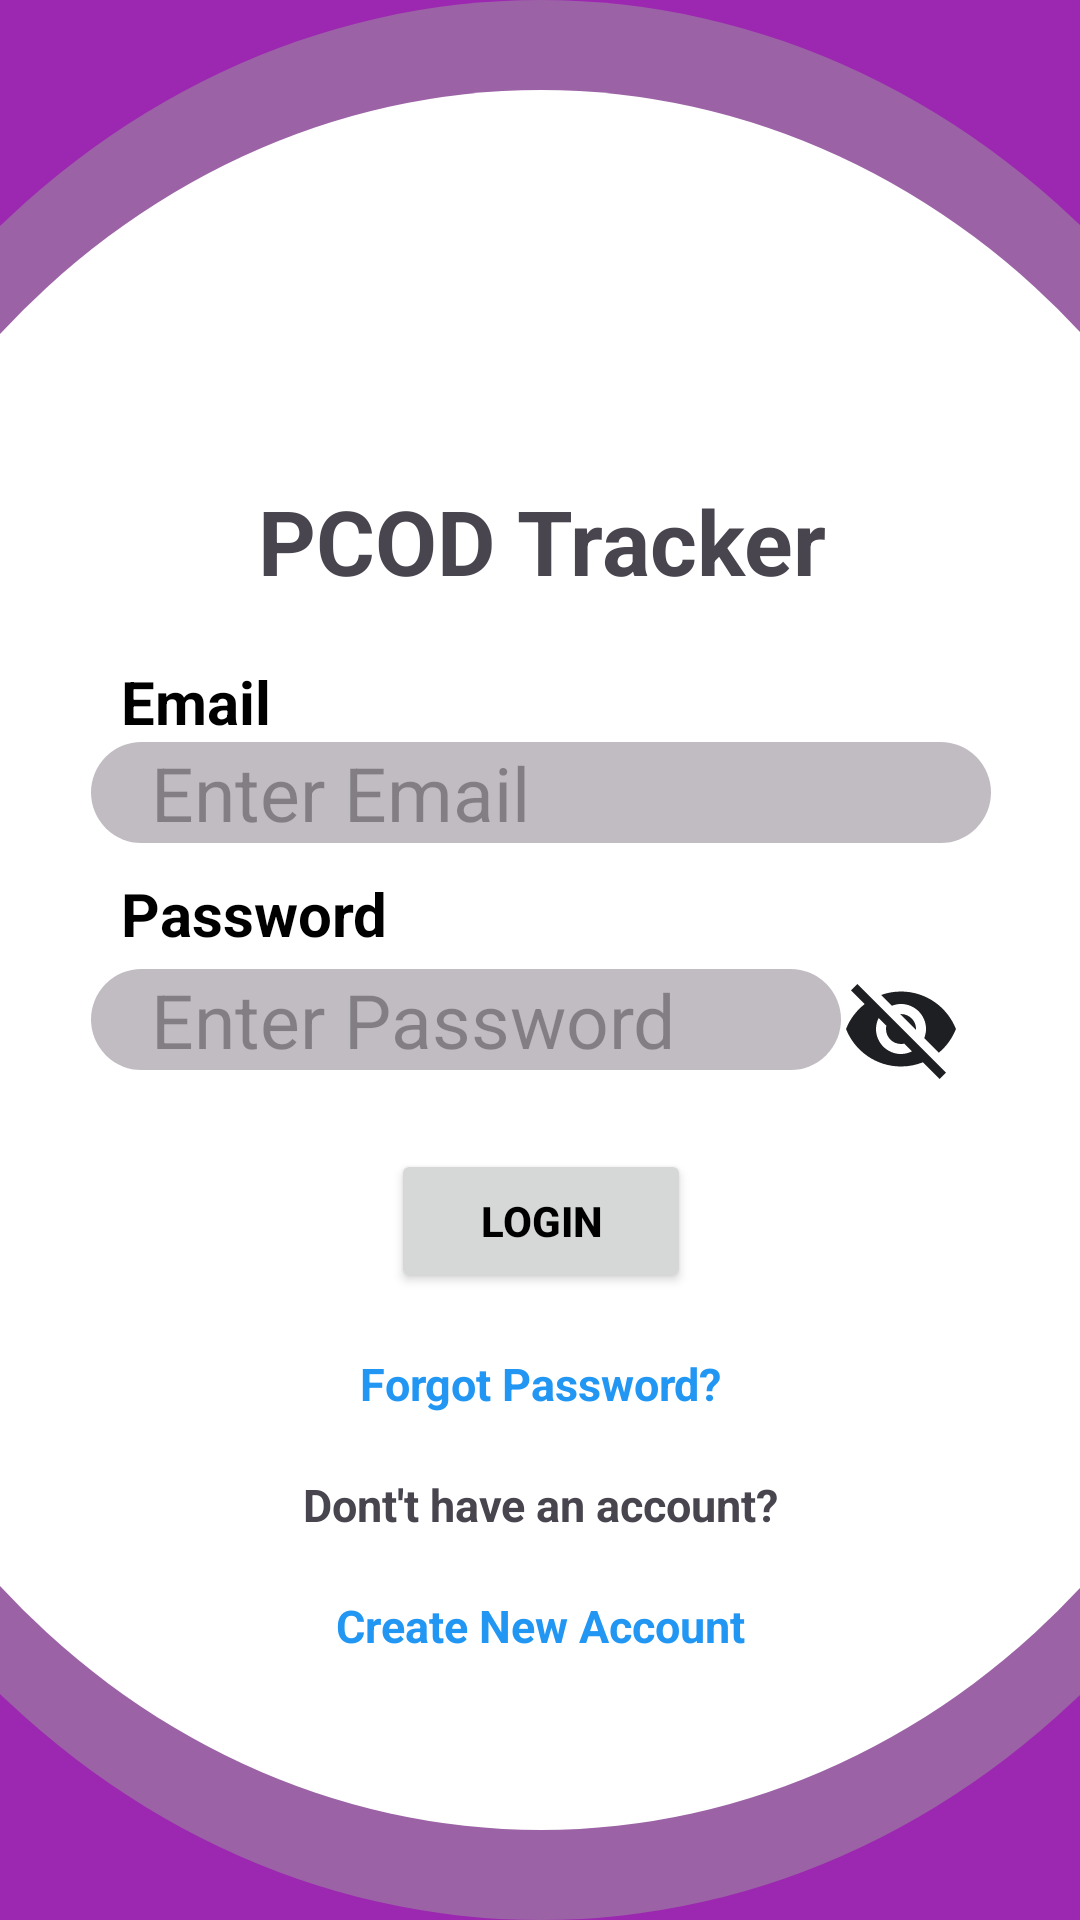

Locate icon controls on the screen. Image size 1080*1920, boxes as box=[x1, y1, x2, y2].
visibility off: box=[846, 984, 956, 1079]
